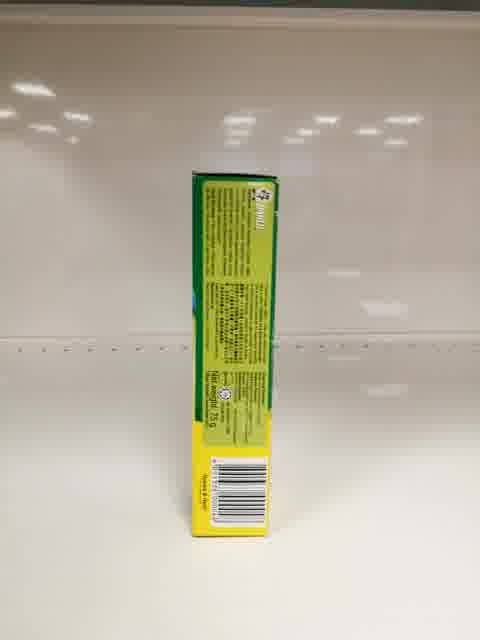toothpaste: (191, 172, 279, 538)
